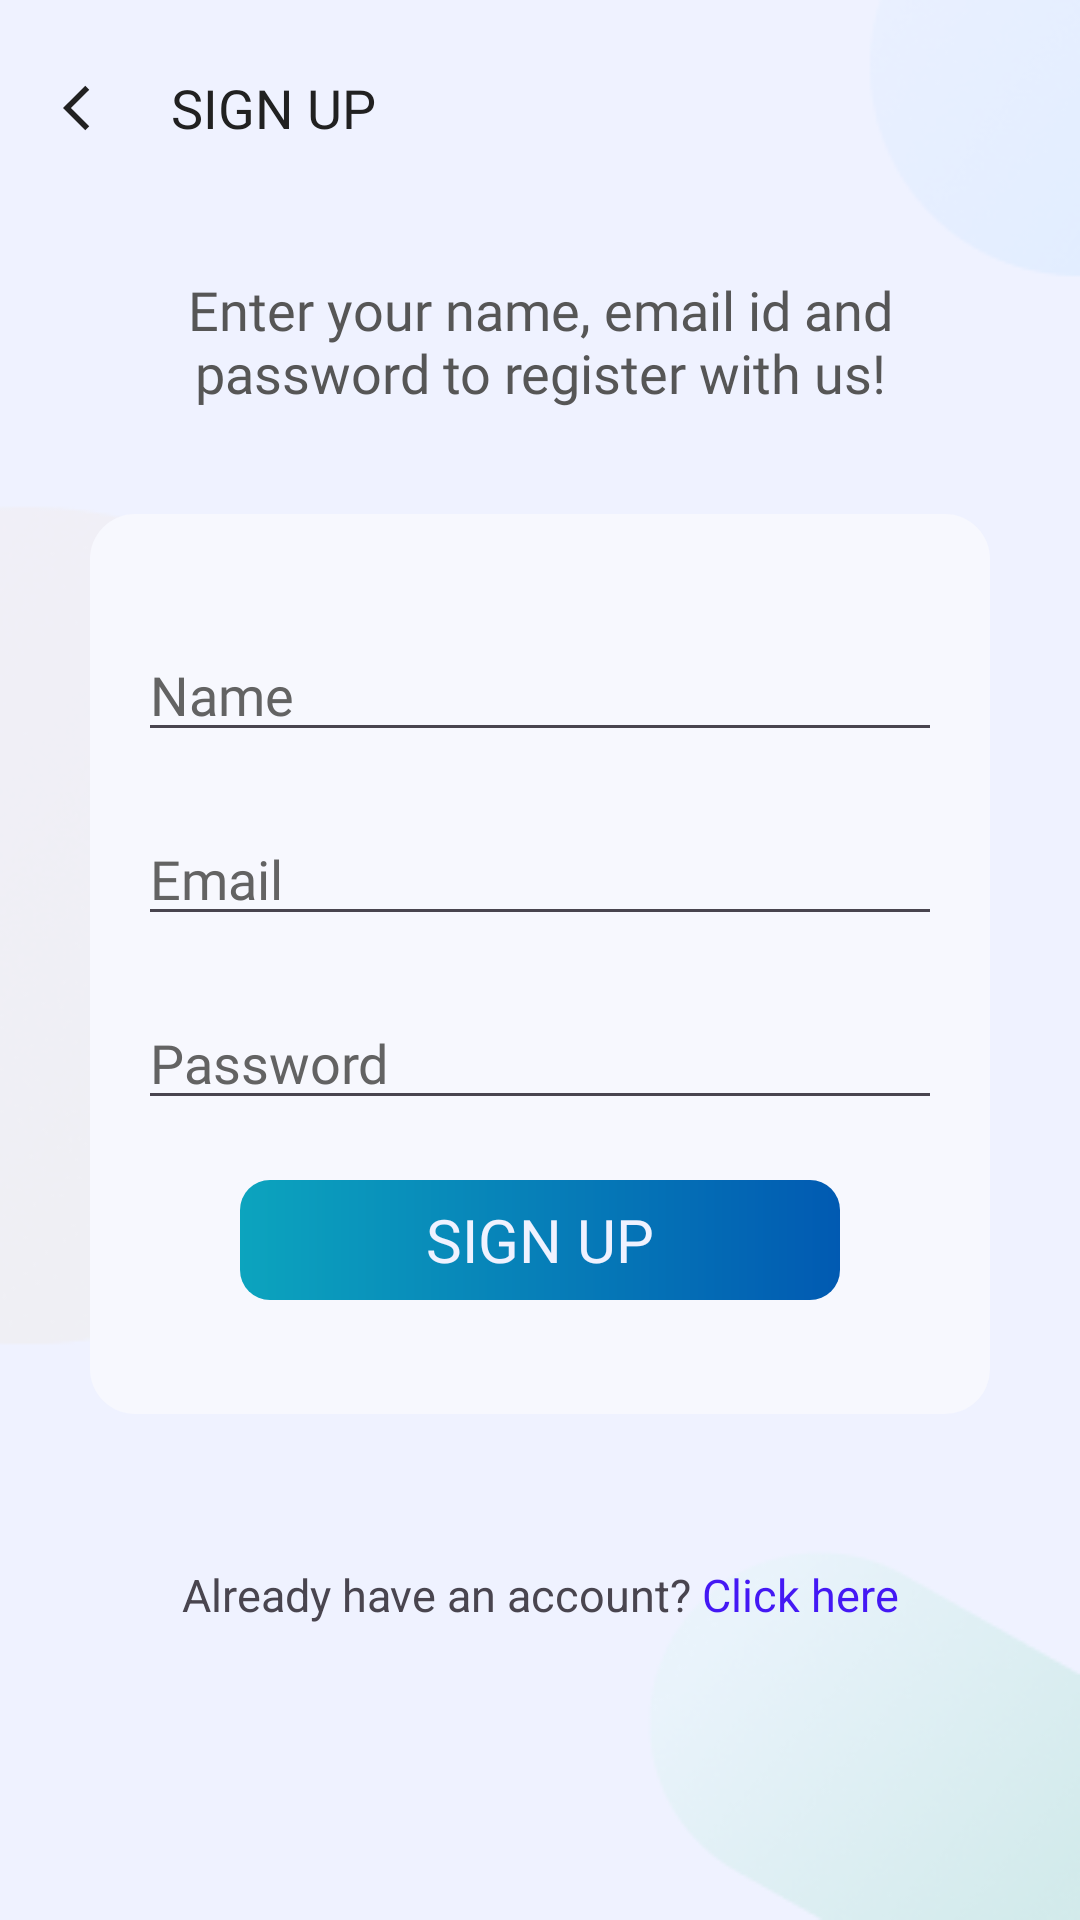

Screen size 1080 × 1920. Icon name, then its box in pixels as (x1, y1, x2, y2):
back: (63, 86, 89, 130)
